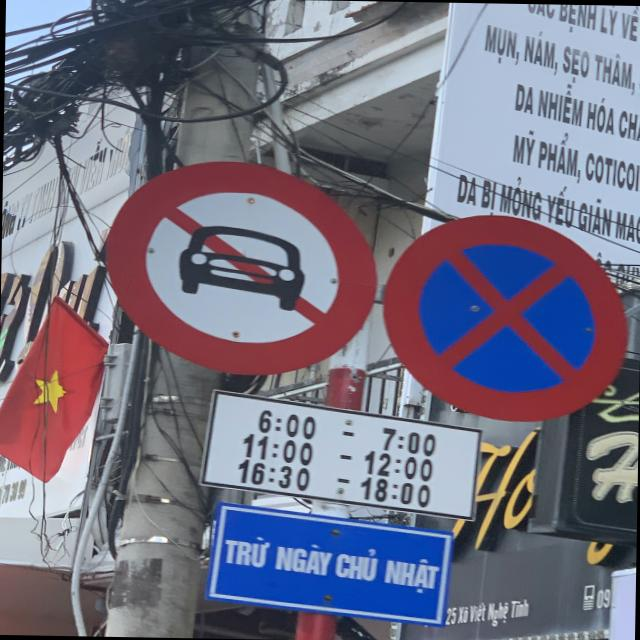Cam_Dung_Va_Dau_Xe: (380, 212, 630, 424)
Cam_O_To: (104, 160, 378, 378)
